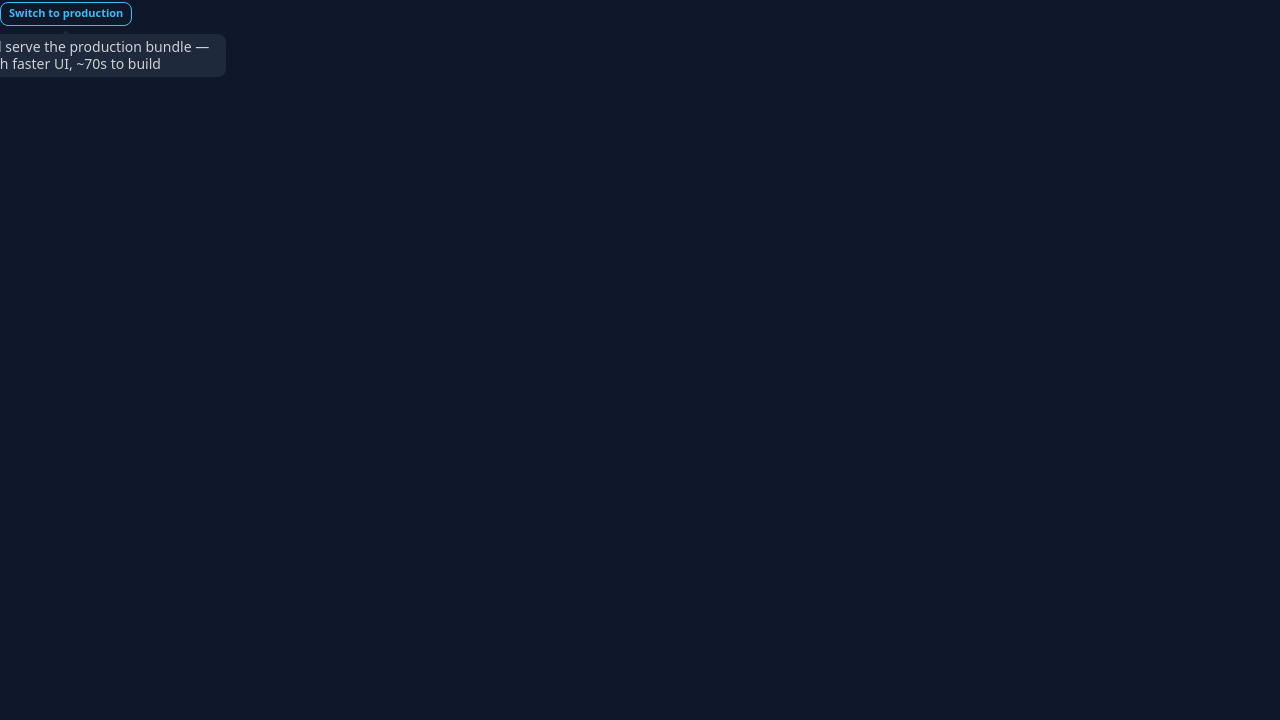
Scenario: BuildModeSwitch › asks before switching — it cycles the app and rebuilds
The width and height of the screenshot is (1280, 720).
Click the button "Switch to production". click: (66, 14)
box: [0, 2, 132, 26]
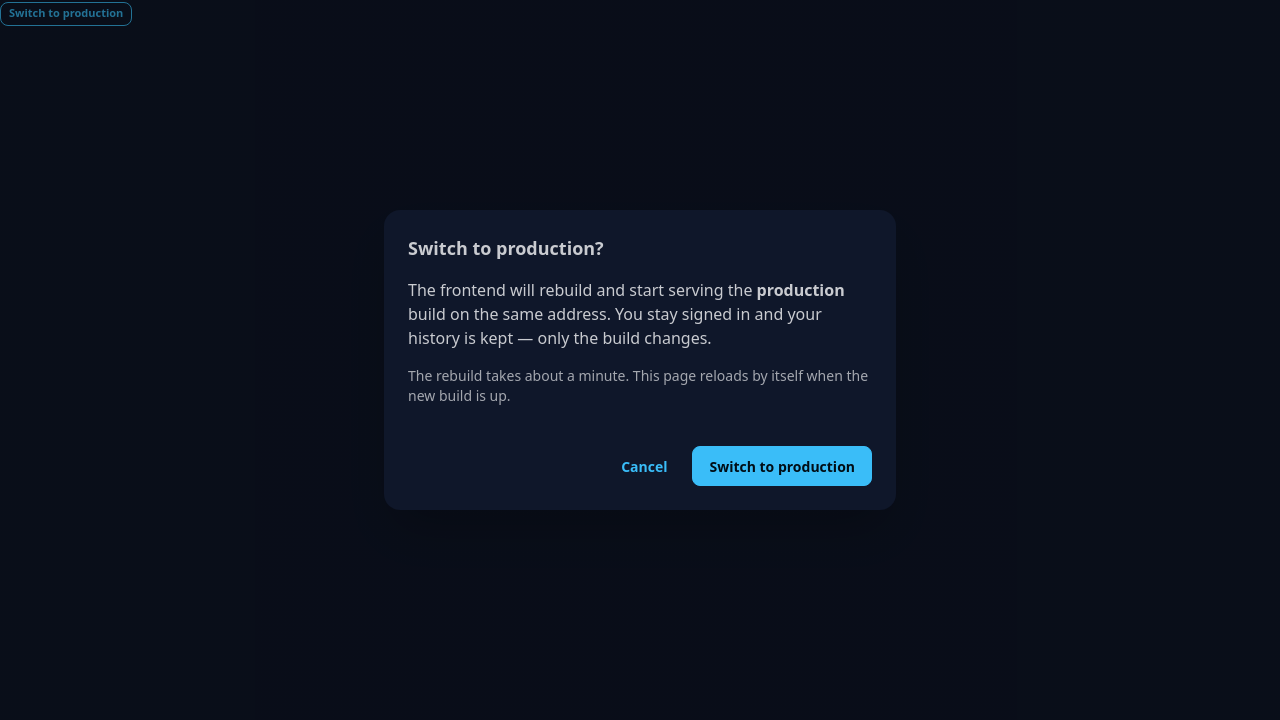
Now the text "stay signed in" is shown, box [408, 303, 822, 349]
